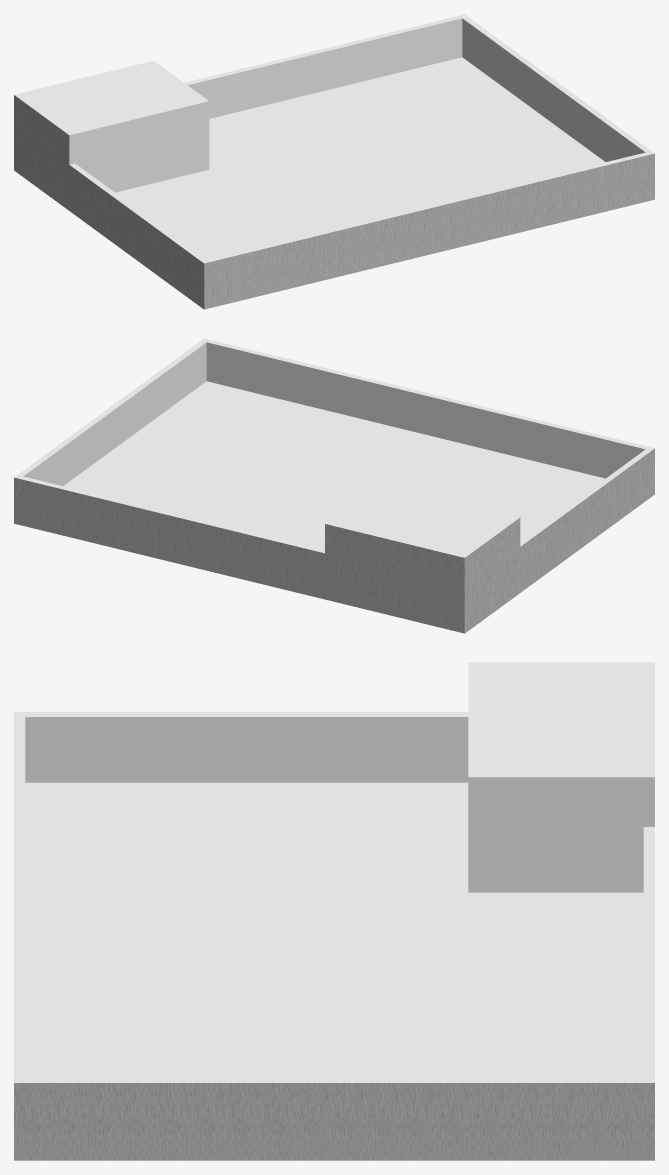
File: top.gltf
3 views of the same model, one above another, from view 1: azimuth 30°, elevation 25°; view 2: azimuth 150°, elevation 25°; view 3: azimuth 270°, elevation 25° (orthographic). The views are drawn at different scales.
Size of the model in its own units: 15.27 by 2.45 by 11.16.
Materials: 2 (2 with a texture image).
